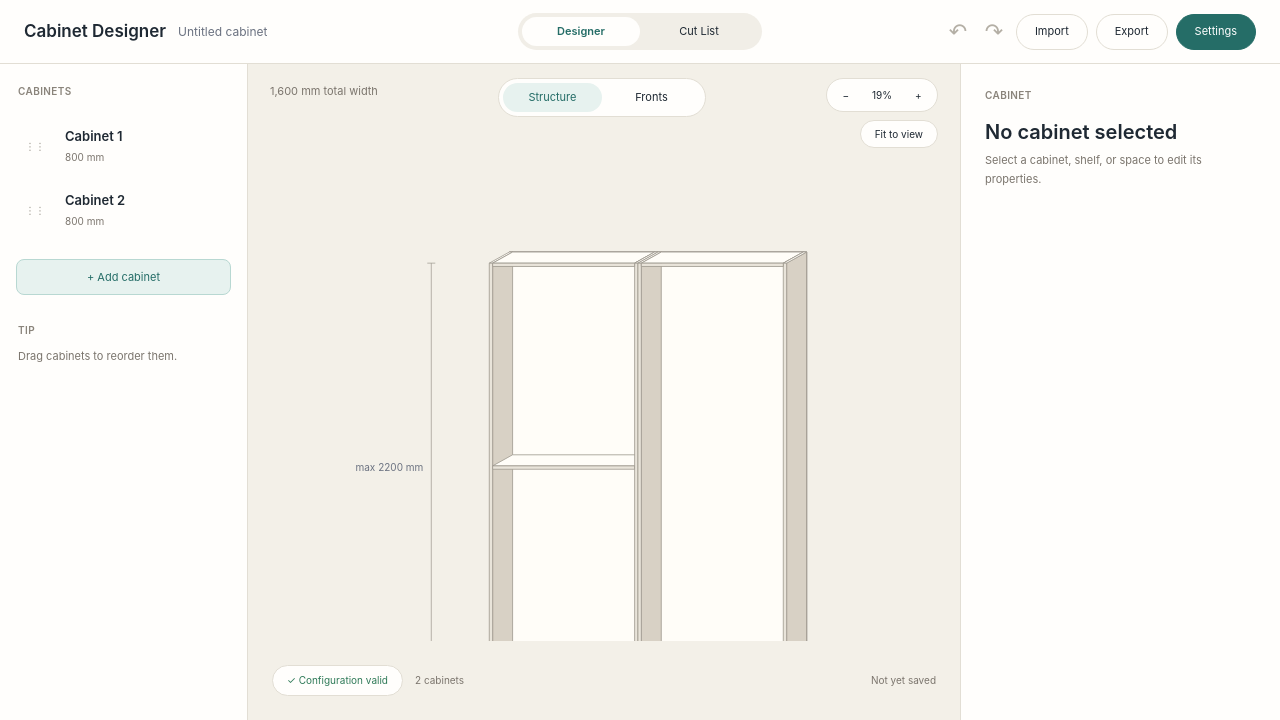
Test: application shell › selects modules without changing project data or history
The width and height of the screenshot is (1280, 720).
Check: the heading "No cabinet selected" is shown, box [985, 120, 1177, 144]
Click the button with aria-label "Cabinet 2, 800 mm" at (124, 210), box [12, 181, 235, 239]
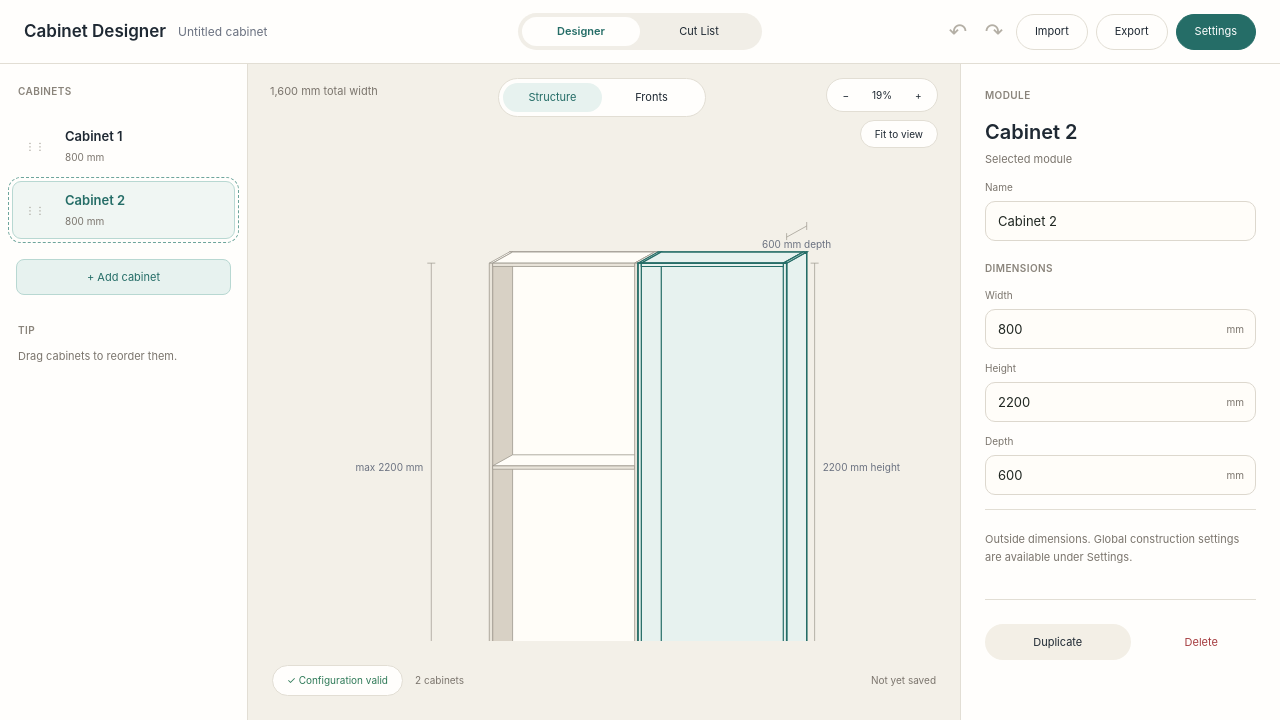
Check: the field labelled "Name" holds "Cabinet 2", box [985, 200, 1256, 240]
Check: the field named "width (mm)" holds "800", box [985, 308, 1256, 348]
Click the link "Cut List" at (699, 31), box [679, 24, 719, 38]
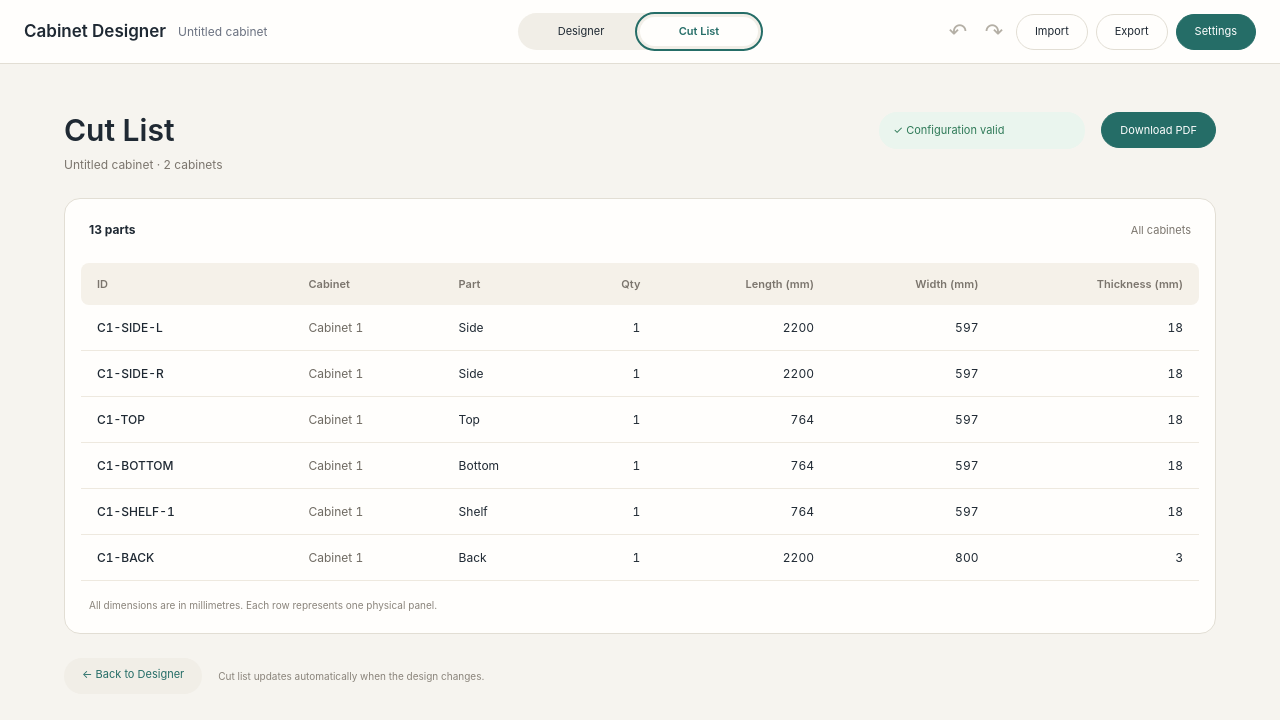
Click the link "Designer" at (581, 31), box [558, 24, 604, 38]
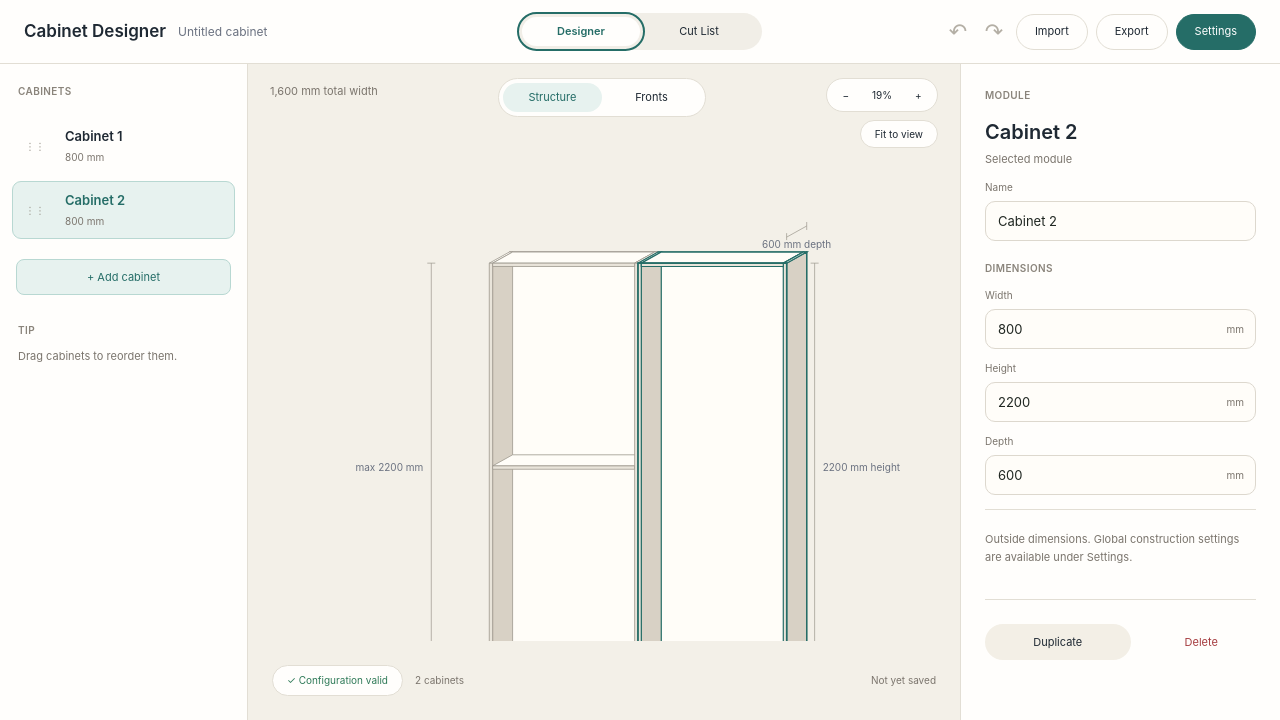
Check: the field labelled "Name" holds "Cabinet 2", box [985, 200, 1256, 240]
